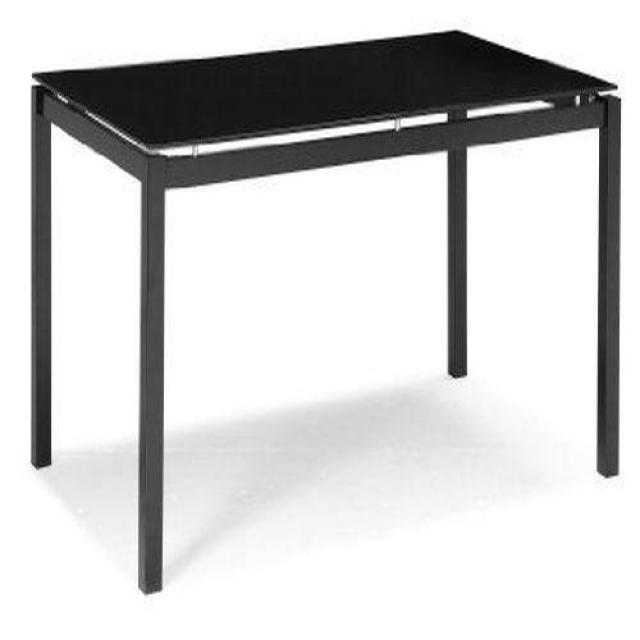table: (31, 31, 620, 596)
